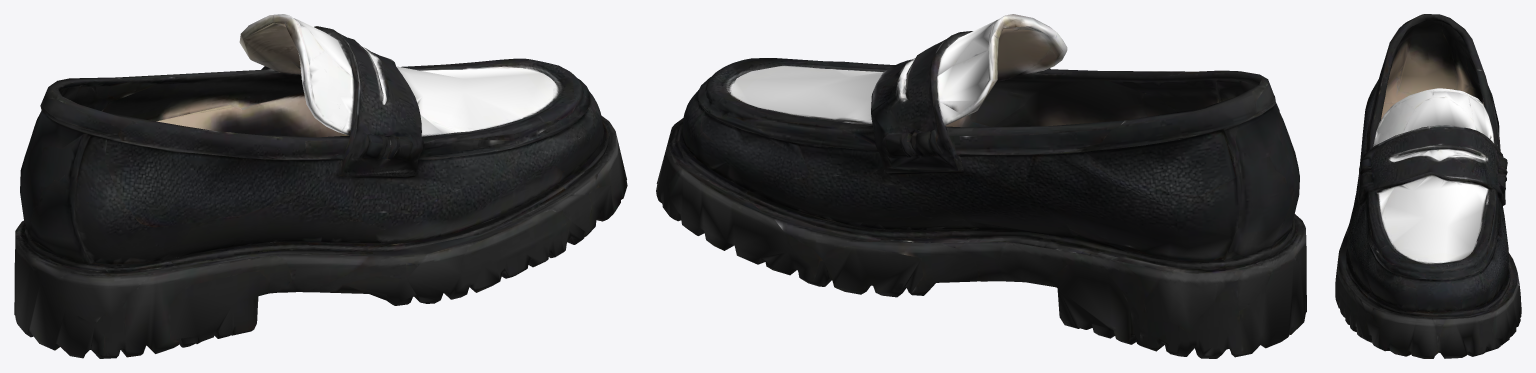
The model's file is loafer.glb.
3 views of the same model, side by side, from view 1: azimuth 30°, elevation 25°; view 2: azimuth 150°, elevation 25°; view 3: azimuth 270°, elevation 25° (orthographic). The views are drawn at different scales.
Parts seen in each view (by area): view 1: node_0; view 2: node_0; view 3: node_0.
Part boxes in pixels (bbox=[...]): node_0: bbox=[14, 14, 627, 358]; node_0: bbox=[656, 14, 1306, 358]; node_0: bbox=[1335, 14, 1521, 358].
Size of the model in its own units: 1.12 by 0.454 by 0.4307.
1 material, 1 textured.
